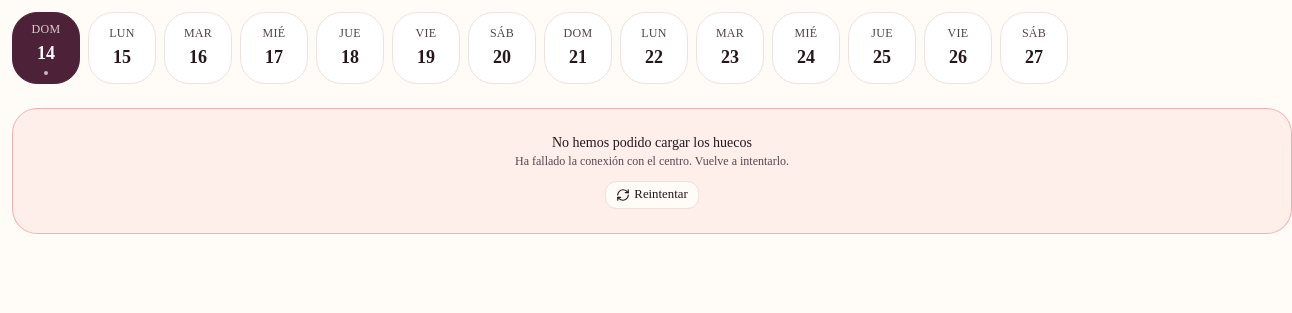
SlotPicker › estado de error › reintenta la petición al pulsar "Reintentar" y pinta los huecos al recuperarse
The image size is (1292, 313).
Expected: the message is shown, top-left (12, 108), bottom-right (1291, 234)
Click the button "Reintentar". click: [652, 195]
box: top-left (605, 181), bottom-right (699, 209)
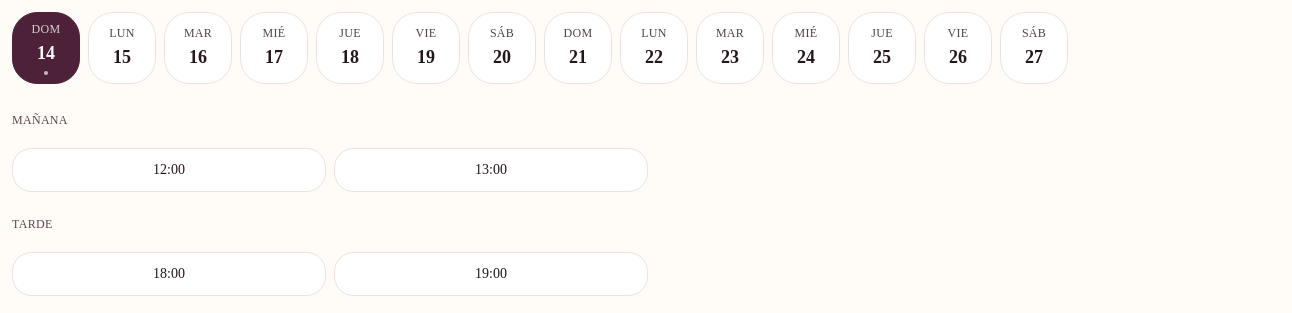
Expected: the text "Mañana" is shown, top-left (12, 113), bottom-right (68, 127)
Expected: the message is gone
